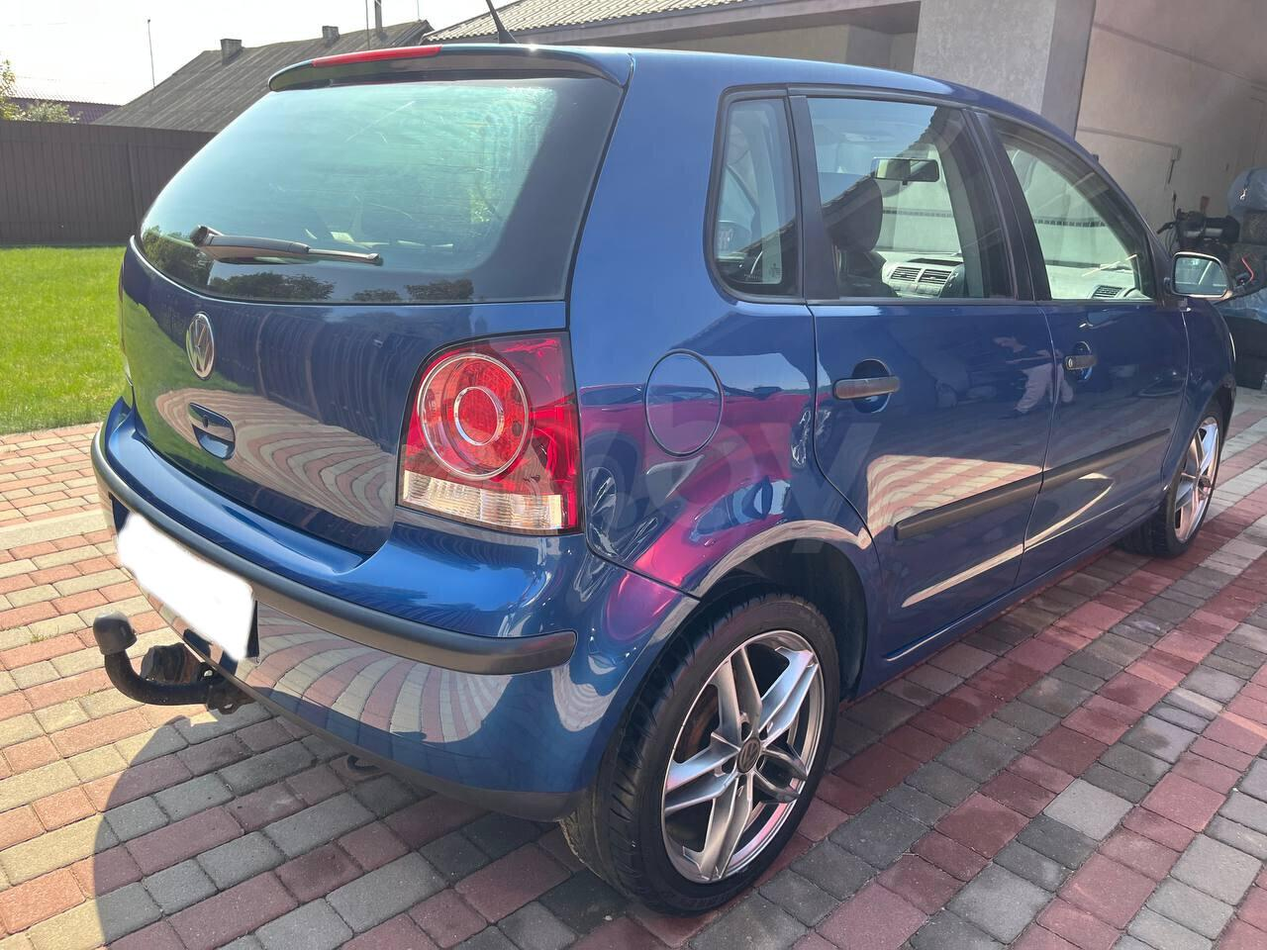Polo_2005-2009: (72, 35, 1267, 907)
